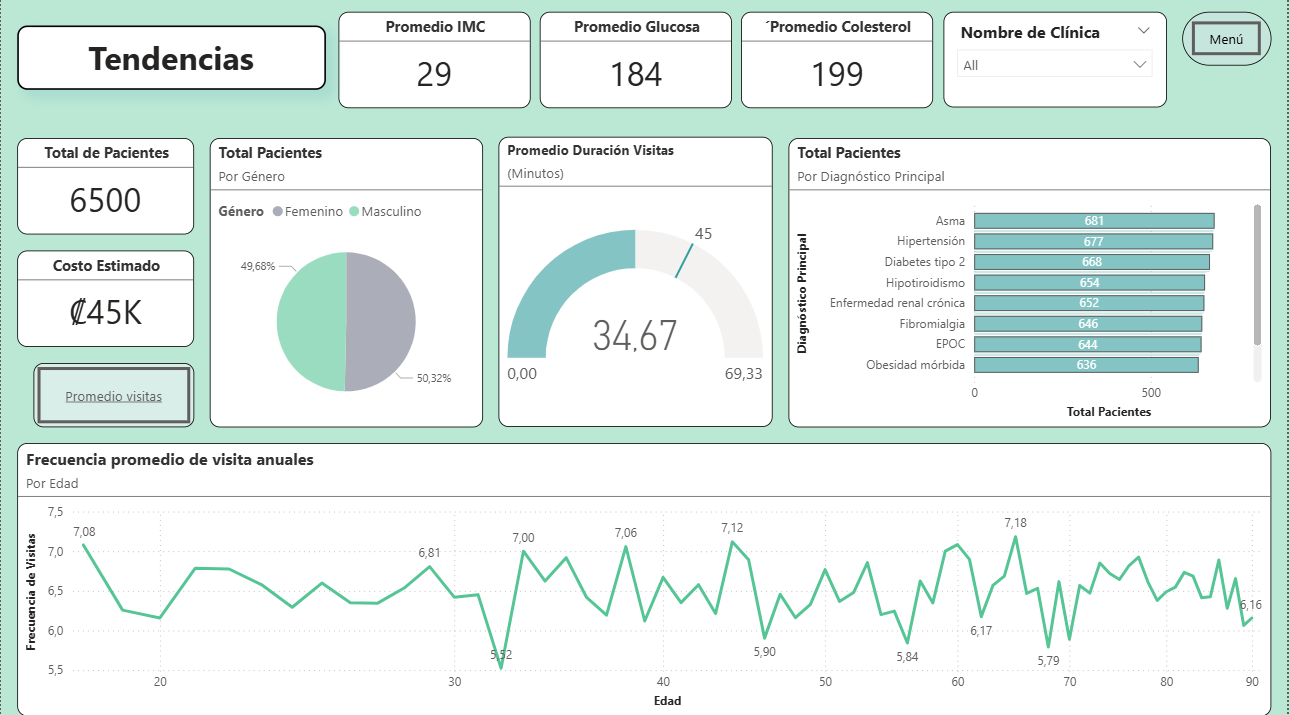

The page's visual inventory and layout, read from the dashboard file:
{"tool":"powerbi","page":{"name":"Tendencias Generales","canvas":[1280,720],"ordinal":2},"visuals":[{"type":"barChart","title":"Total Pacientes","fields":{"Category":["Base_Datos_Pacientes_Crónicos.Diagnóstico_Principal"],"Y":["Medidas Pacientes.Total Pacientes"]},"box":[784,144,480,288],"z":0},{"type":"pieChart","title":"Total Pacientes","fields":{"Y":["Medidas Pacientes.Total Pacientes"],"Category":["Base_Datos_Pacientes_Crónicos.Género"]},"box":[208,144,272,288],"z":1000},{"type":"card","title":"Total de Pacientes","fields":{"Values":["Medidas Pacientes.Total Pacientes"]},"box":[16,144,176,96],"z":2000},{"type":"card","title":"Costo Estimado","fields":{"Values":["Medidas Pacientes.Promedio Costo Estimado"]},"box":[16,256,176,96],"z":3000},{"type":"card","title":"´Promedio Colesterol","fields":{"Values":["Medidas Pacientes.Promedio Colesterol"]},"box":[736.4,18.6,191.6,95.8],"z":4000},{"type":"card","title":"Promedio Glucosa","fields":{"Values":["Medidas Pacientes.Promedio Glucosa"]},"box":[536.1,18.6,191.6,95.8],"z":5000},{"type":"card","title":"Promedio IMC","fields":{"Values":["Medidas Pacientes.Promedio IMC"]},"box":[335.7,18.5,190.9,96.1],"z":6000},{"type":"lineChart","title":"Frecuencia promedio de visita anuales","fields":{"Category":["Base_Datos_Pacientes_Crónicos.Edad"],"Y":["Avg(Base_Datos_Pacientes_Crónicos.Frecuencia_Visitas_Anuales)"]},"box":[16.2,448,1247.8,272],"z":7000},{"type":"textbox","box":[16.2,32.4,307,63.6],"z":8000},{"type":"slicer","fields":{"Values":["Base_Datos_Pacientes_Crónicos.Nombre_Clínica"]},"box":[938.4,19.1,222.1,94.8],"z":9000},{"type":"actionButton","title":"Promedio de visitas ","box":[32,368,160,64],"z":12000},{"type":"actionButton","box":[1175.4,18.7,88.6,53.7],"z":13000},{"type":"gauge","fields":{"Y":["Medidas Pacientes.Promedio Duración Visitas"]},"box":[495.1,143.1,272.4,288.6],"z":14000}]}

Visuals, with their boxes in screenshot pixels (x1, y1, x2, y2), scaled from the page's 1280x720 canvas onto the 1290x715 screenshot:
"Total Pacientes" barChart: [790, 143, 1274, 429]
"Total Pacientes" pieChart: [210, 143, 484, 429]
"Total de Pacientes" card: [16, 143, 194, 238]
"Costo Estimado" card: [16, 254, 194, 350]
"´Promedio Colesterol" card: [742, 18, 935, 114]
"Promedio Glucosa" card: [540, 18, 733, 114]
"Promedio IMC" card: [338, 18, 531, 114]
"Frecuencia promedio de visita anuales" lineChart: [16, 445, 1274, 714]
textbox: [16, 32, 326, 95]
slicer - Base_Datos_Pacientes_Crónicos.Nombre_Clínica: [946, 19, 1170, 113]
"Promedio de visitas " actionButton: [32, 365, 194, 429]
actionButton: [1185, 19, 1274, 72]
gauge - Medidas Pacientes.Promedio Duración Visitas: [499, 142, 773, 429]
